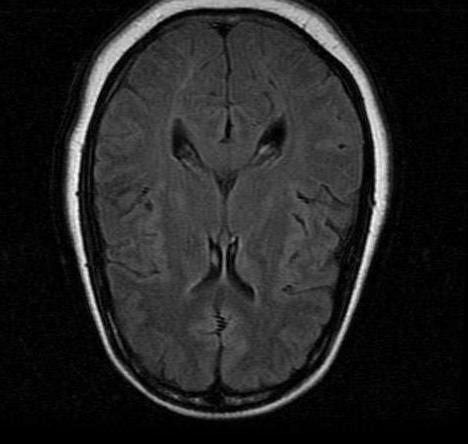Normal_Brain: (5, 3, 468, 444)
